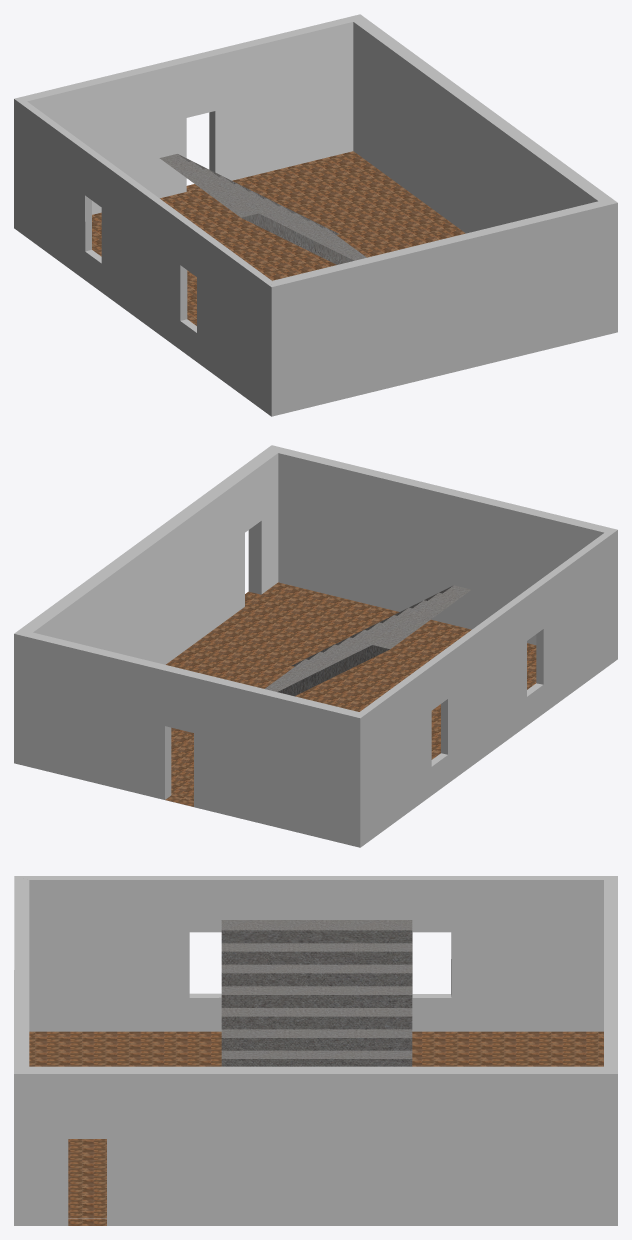
Rendered from stairwell_1st_Floor.fbx.
3 views of the same model, one above another, from view 1: azimuth 30°, elevation 25°; view 2: azimuth 150°, elevation 25°; view 3: azimuth 270°, elevation 25° (orthographic). The views are drawn at different scales.
Visible parts, largest first — view 1: Classroom 1.169; view 2: Classroom 1.169; view 3: Classroom 1.169.
Boxes of the visible parts, x1,y1,x2,y2 form: Classroom 1.169: (14, 14, 617, 416); Classroom 1.169: (14, 445, 617, 847); Classroom 1.169: (14, 876, 617, 1225).
Size of the model in its own units: 1907 by 686 by 2457.
